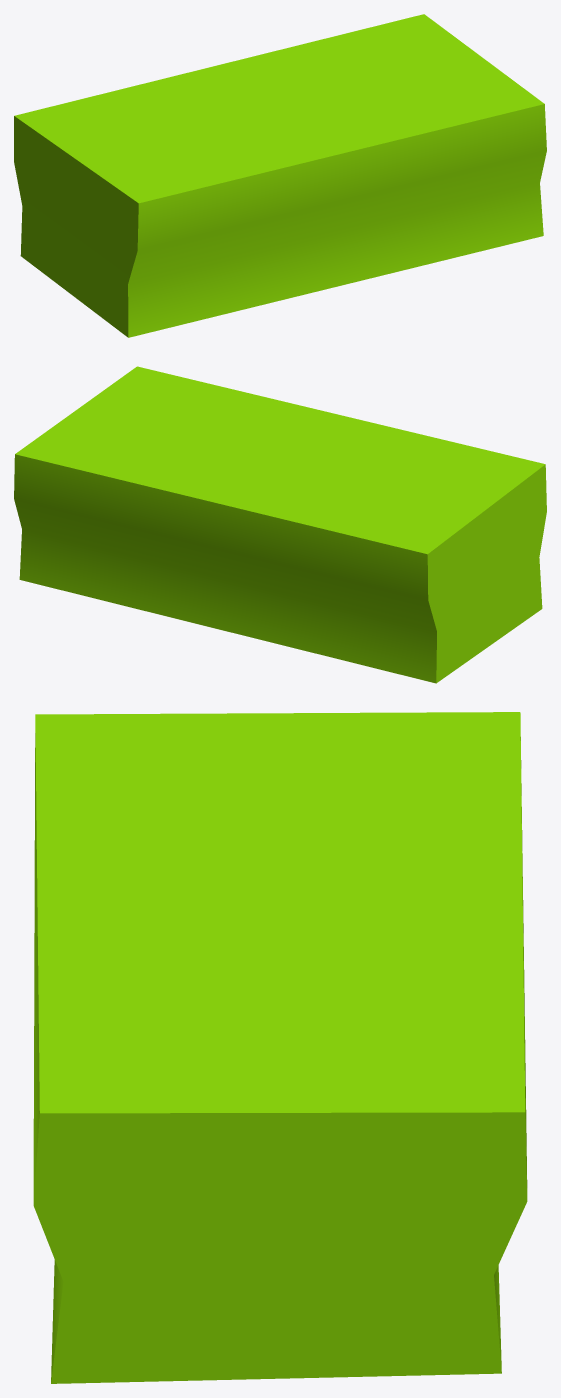
The model's file is Wall_Stone_01_B1_Lod2.fbx.
The picture shows the model from 3 angles, top to bottom: view 1: azimuth 30°, elevation 25°; view 2: azimuth 150°, elevation 25°; view 3: azimuth 270°, elevation 25°; orthographic projection. The views are drawn at different scales.
Parts seen in each view (by area): view 1: Wall_Stone_01_B1_Lod2; view 2: Wall_Stone_01_B1_Lod2; view 3: Wall_Stone_01_B1_Lod2.
Part boxes in pixels (x1,y1,x2,y2): Wall_Stone_01_B1_Lod2: [14, 14, 546, 337]; Wall_Stone_01_B1_Lod2: [14, 366, 546, 683]; Wall_Stone_01_B1_Lod2: [33, 712, 527, 1383].
Bounding box in the file's own units: 278 × 89.09 × 144.
